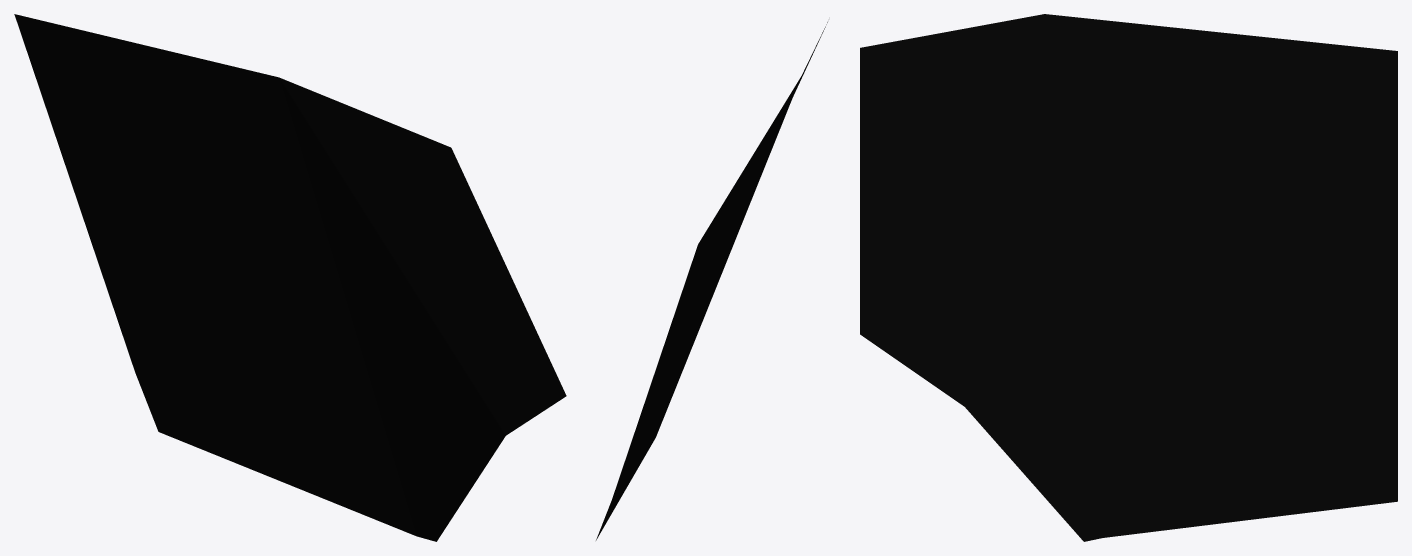
The picture shows the model from 3 angles, left to right: view 1: azimuth 30°, elevation 25°; view 2: azimuth 150°, elevation 25°; view 3: azimuth 270°, elevation 25°; orthographic projection. The views are drawn at different scales.
Size of the model in its own units: 1.31 by 2.74 by 2.95.
2 materials, 2 textured.
